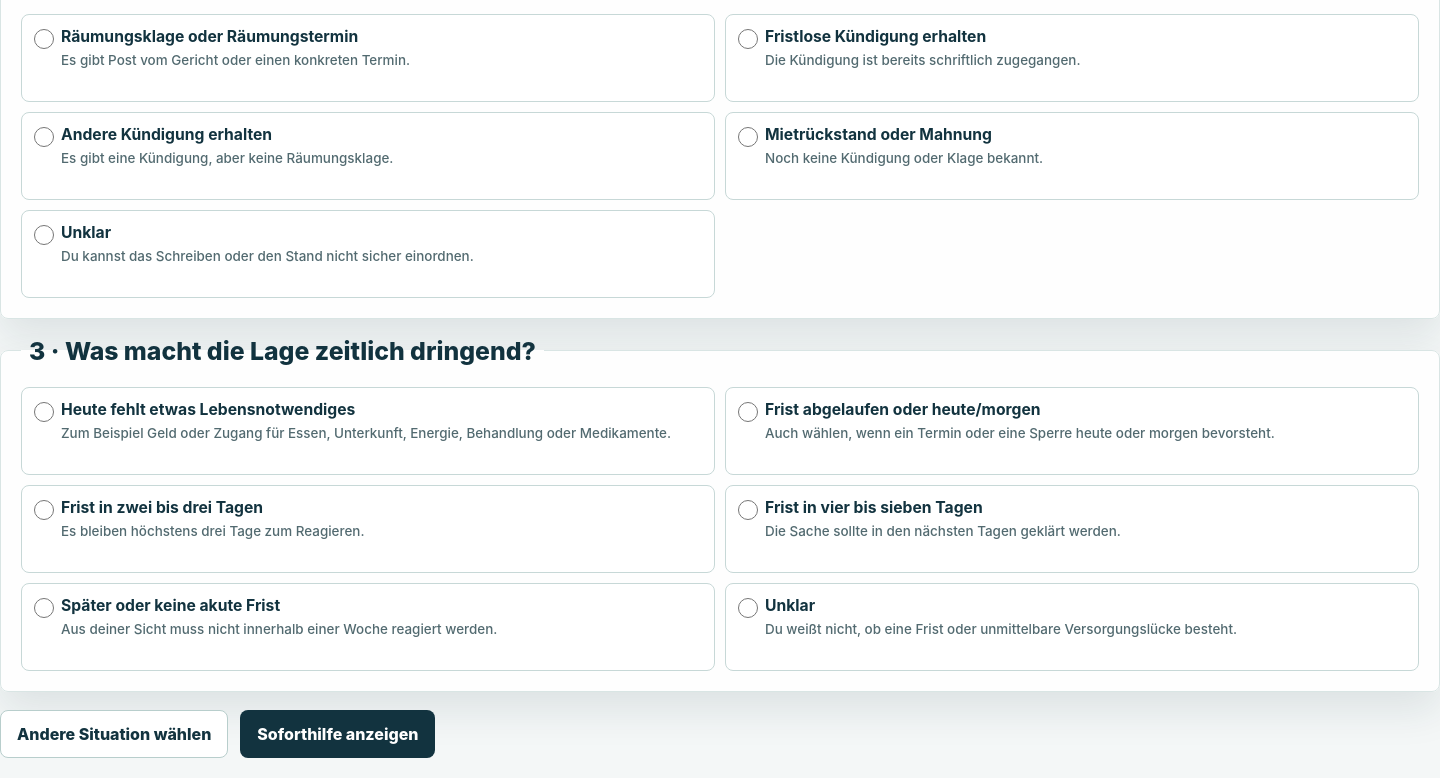
Test: QuickHelpFlow › associates the validation alert with every missing triage field
(page scrolled)
Click the button "Soforthilfe anzeigen".
click(338, 734)  # box [240, 710, 435, 758]
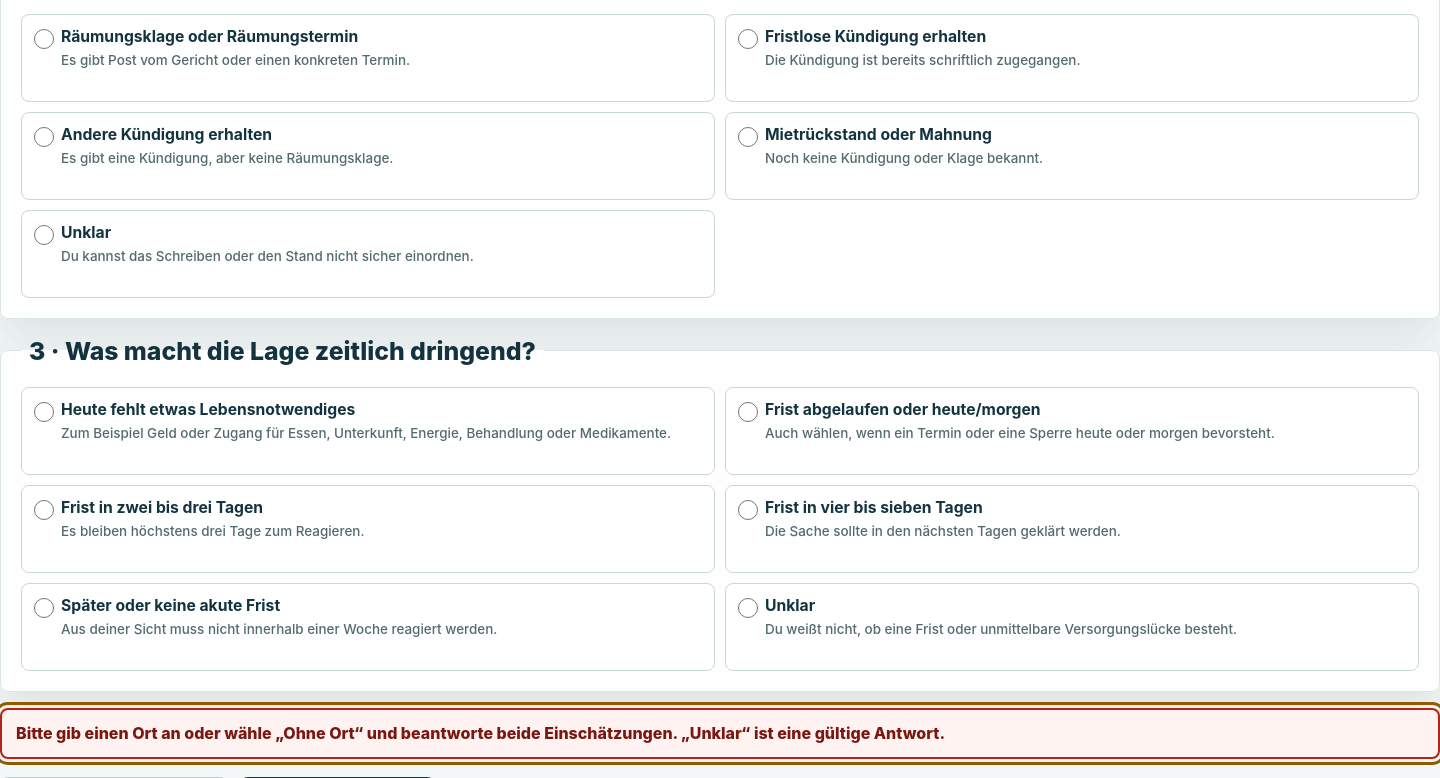
Expected: the message shows "Ort", [16, 723, 945, 743]
